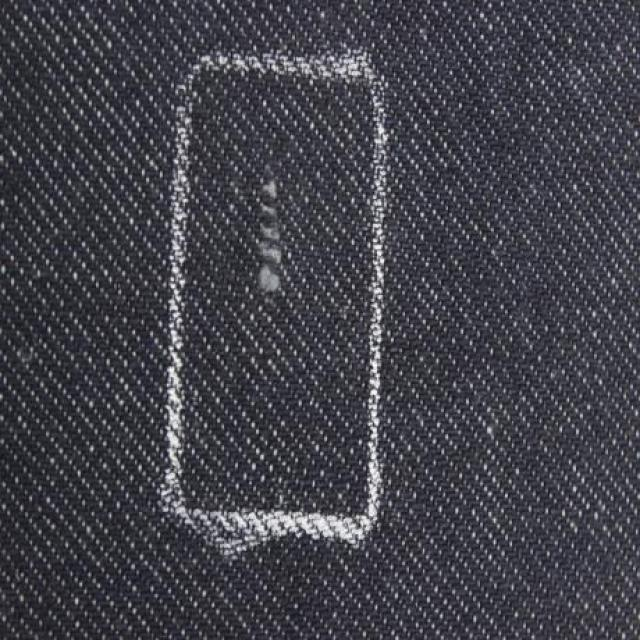stains: (212, 142, 350, 366)
